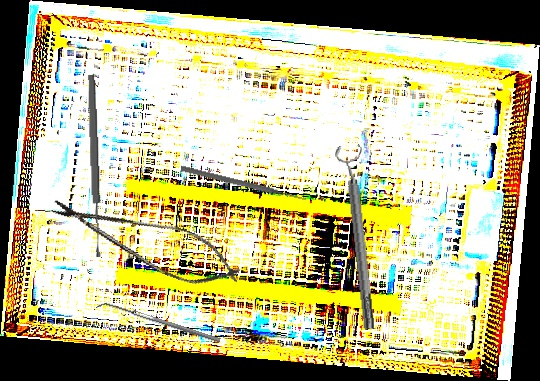Fixation Ring: (334, 143, 383, 332)
Micro Scissor: (43, 184, 248, 299)
Pusher: (179, 164, 308, 204)
Spatula Surgical: (96, 298, 221, 348)
Surgical Spoon: (86, 74, 103, 258)
